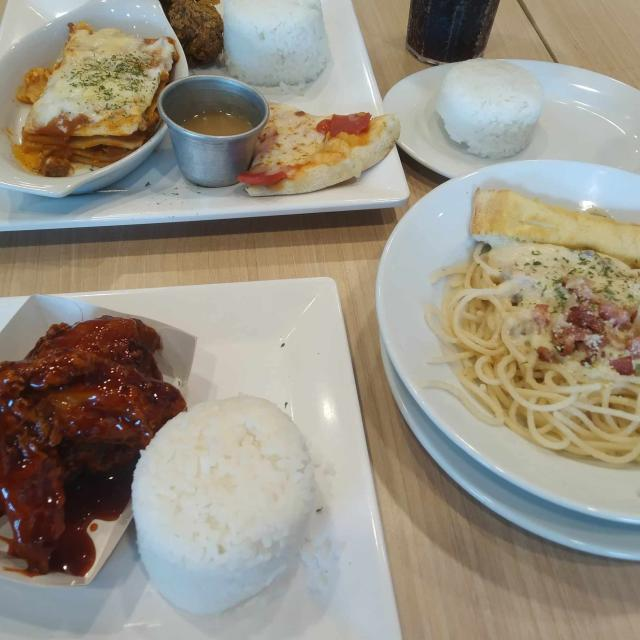Chicken -Chicken Inasal-: (138, 408, 305, 603), (224, 0, 327, 90), (441, 63, 540, 155)
